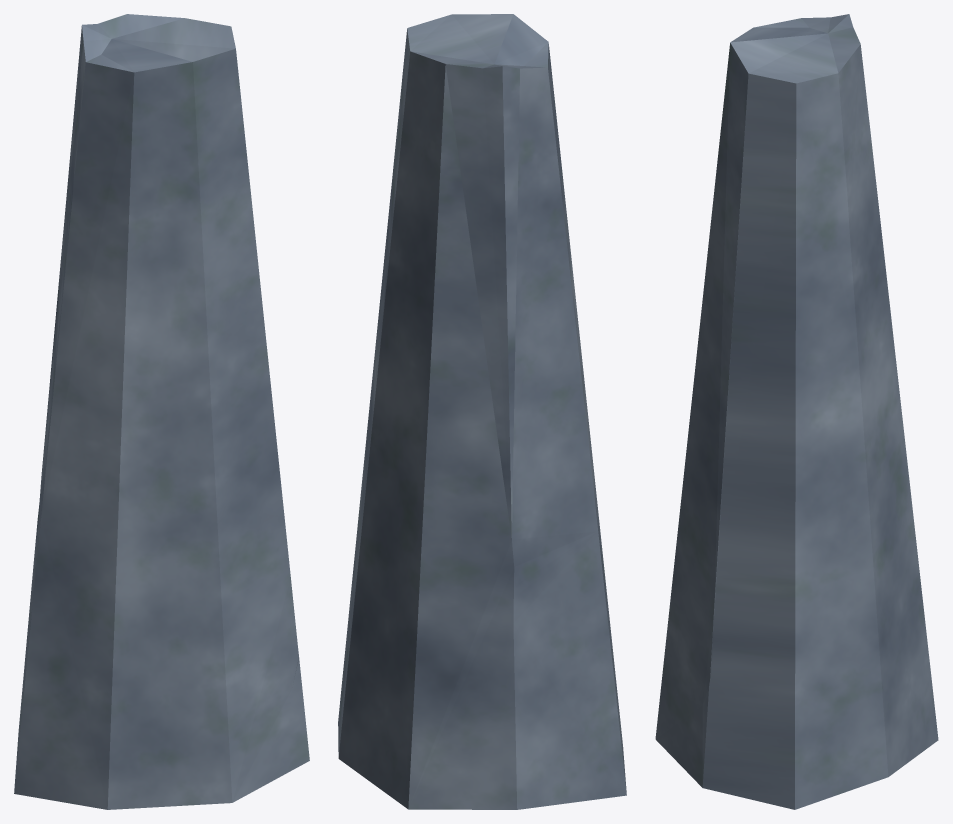
The model's file is Rock_02_Pillar.fbx.
3 renders of one model, left to right at view 1: azimuth 30°, elevation 25°; view 2: azimuth 150°, elevation 25°; view 3: azimuth 270°, elevation 25°, orthographic. The views are drawn at different scales.
Visible parts, largest first — view 1: Rock_02_Pillar; view 2: Rock_02_Pillar; view 3: Rock_02_Pillar.
Boxes of the visible parts, x1=… form: Rock_02_Pillar: x1=14, y1=14, x2=309, y2=809; Rock_02_Pillar: x1=338, y1=14, x2=626, y2=809; Rock_02_Pillar: x1=655, y1=14, x2=938, y2=809.
Bounding box in the file's own units: 1.08 × 2.6 × 0.9421.
Materials: 1 (1 with a texture image).
